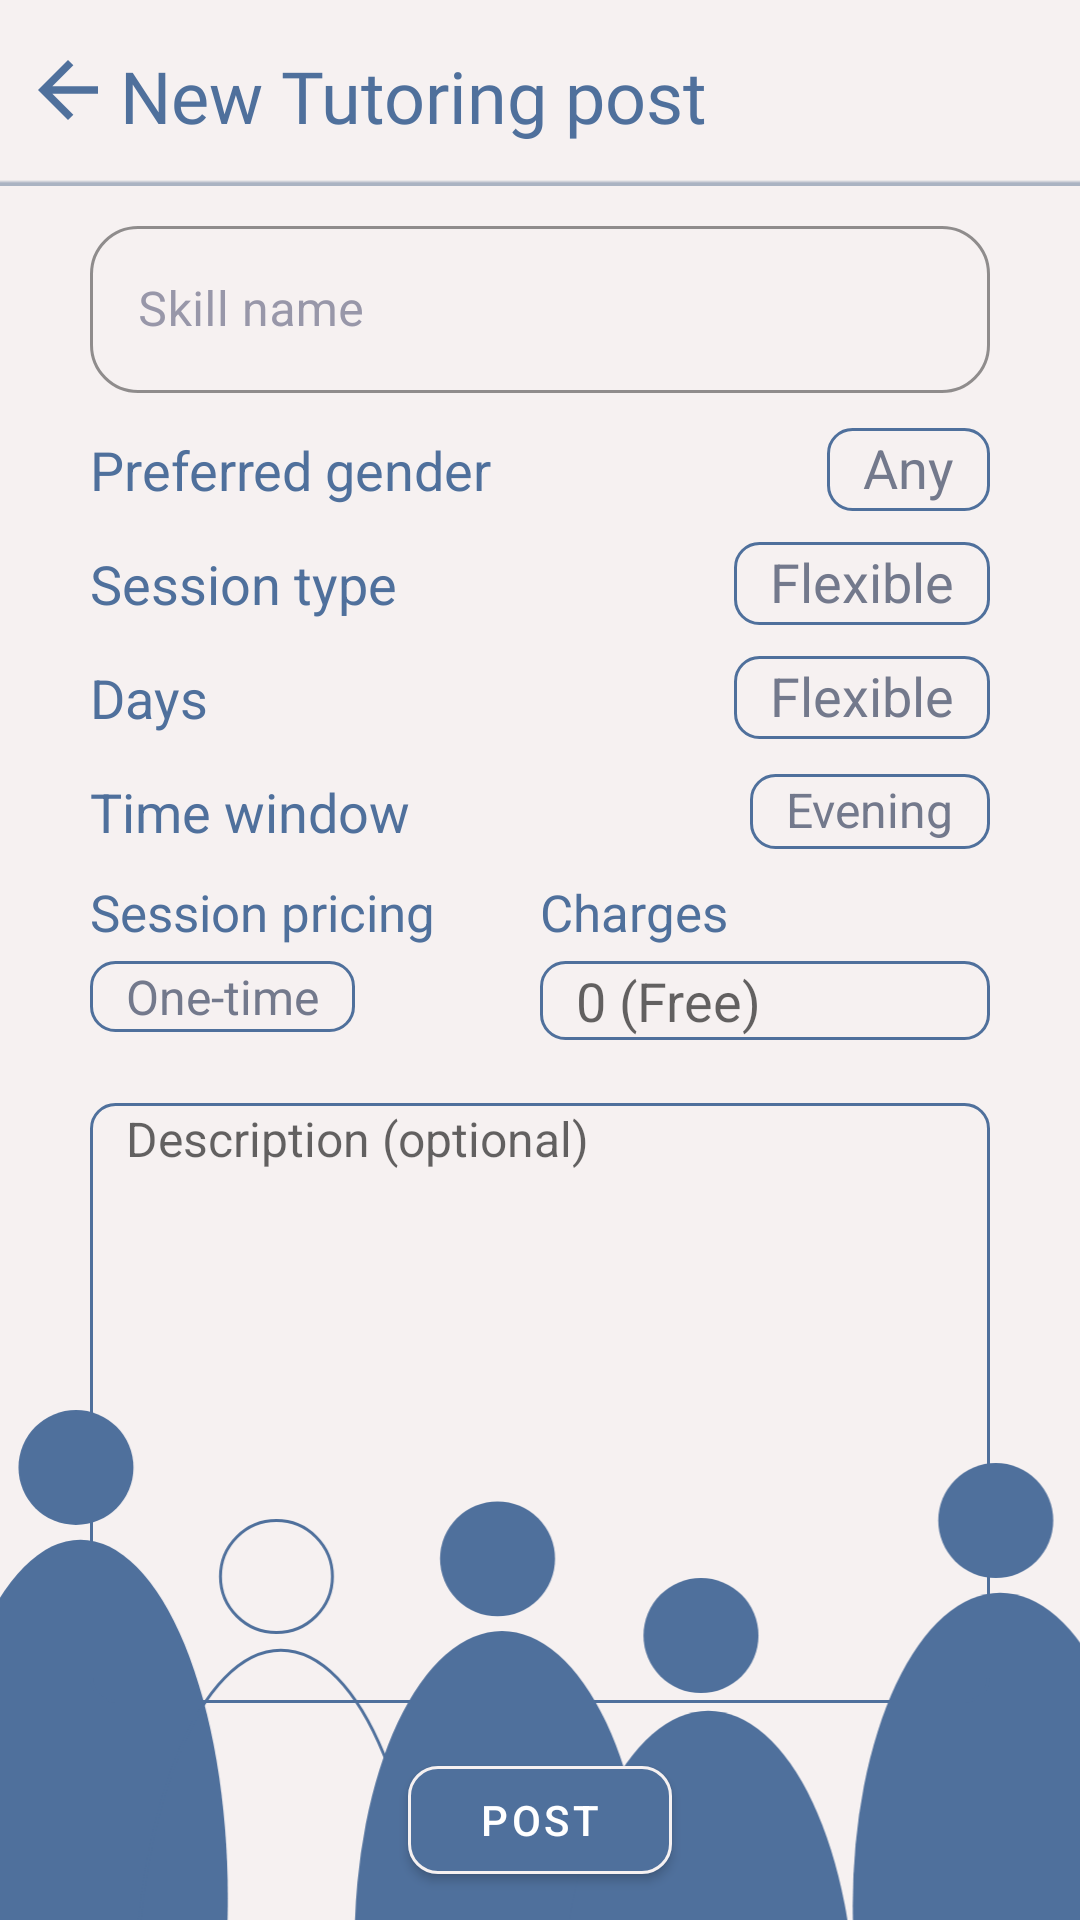

Named icons in this screenshot (1080px×1920px) and their bounding boxes, {"x1": x1, "y1": y1, "x2": x2, "y2": y2}:
back: {"x1": 38, "y1": 60, "x2": 98, "y2": 120}
